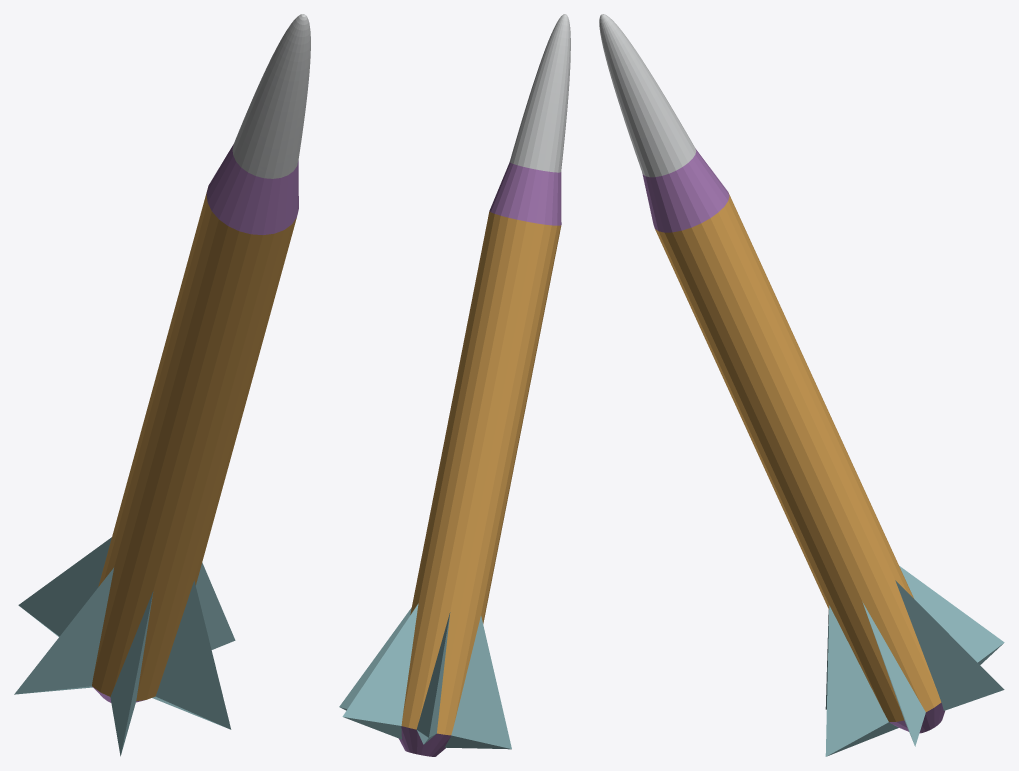
Rendered from rocket56.glb.
3 renders of one model, left to right at view 1: azimuth 30°, elevation 25°; view 2: azimuth 150°, elevation 25°; view 3: azimuth 270°, elevation 25°, orthographic. The views are drawn at different scales.
Parts seen in each view (by area): view 1: Mesh_Mesh_head_geo.001_lambert2SG.001; view 2: Mesh_Mesh_head_geo.001_lambert2SG.001; view 3: Mesh_Mesh_head_geo.001_lambert2SG.001.
Part boxes in pixels (x1,y1,x2,y2): Mesh_Mesh_head_geo.001_lambert2SG.001: (14, 14, 310, 756); Mesh_Mesh_head_geo.001_lambert2SG.001: (339, 14, 570, 756); Mesh_Mesh_head_geo.001_lambert2SG.001: (599, 14, 1004, 756).
Bounding box in the file's own units: 3.8 × 13.48 × 6.89.
